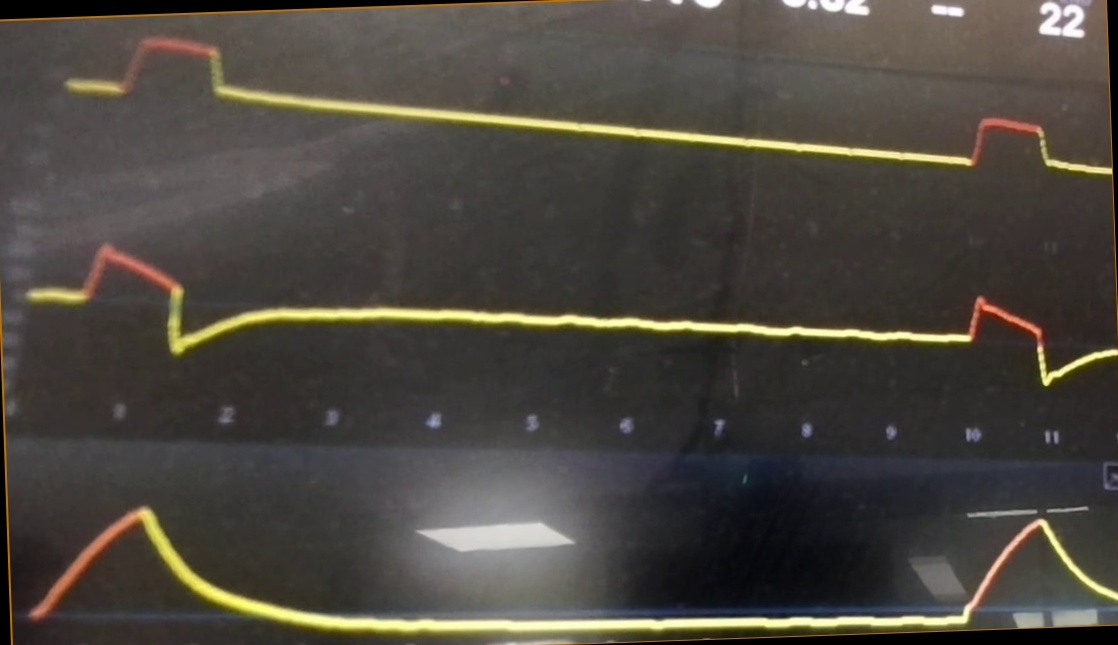Normal Flow: (24, 234, 1118, 390)
Normal Volume: (28, 482, 1116, 636)
